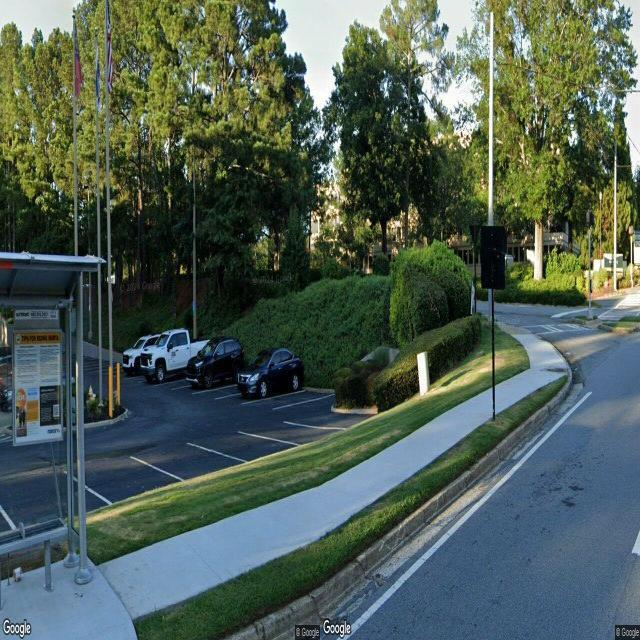seating: (0, 508, 68, 600)
shelter: (0, 249, 106, 640)
